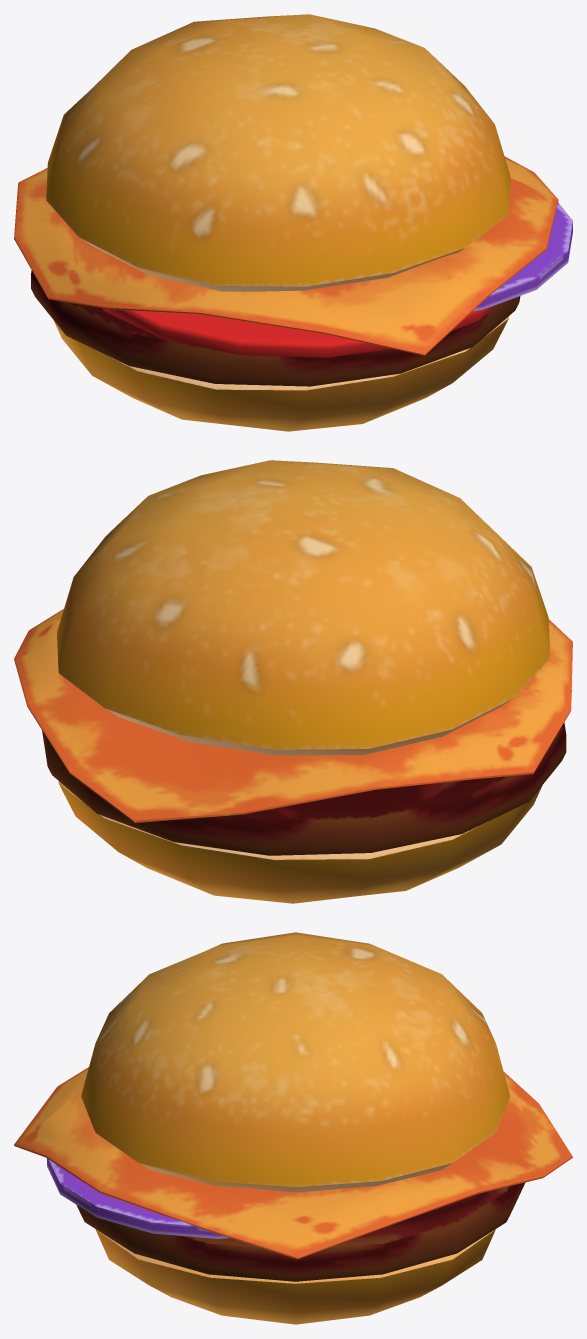
File: Parent_Run_Burger_01.fbx
3 views of the same model, one above another, from view 1: azimuth 30°, elevation 25°; view 2: azimuth 150°, elevation 25°; view 3: azimuth 270°, elevation 25° (orthographic). The views are drawn at different scales.
Visible parts, largest first — view 1: Bread, Cheese, Chicken_Patty, Onion, Tomato; view 2: Bread, Cheese, Chicken_Patty; view 3: Bread, Cheese, Chicken_Patty, Tomato.
Part boxes in pixels (x1,y1,x2,y2): Bread: (46, 14, 510, 431); Cheese: (14, 156, 558, 355); Chicken_Patty: (31, 270, 520, 386); Onion: (102, 304, 497, 357); Tomato: (473, 192, 572, 311); Bread: (57, 460, 550, 903); Cheese: (14, 609, 572, 822); Chicken_Patty: (42, 722, 566, 855); Bread: (81, 932, 510, 1324); Cheese: (14, 1067, 572, 1259); Chicken_Patty: (76, 1182, 525, 1281); Tomato: (47, 1158, 228, 1238).
Size of the model in its own units: 52.9 by 36.02 by 57.19.
